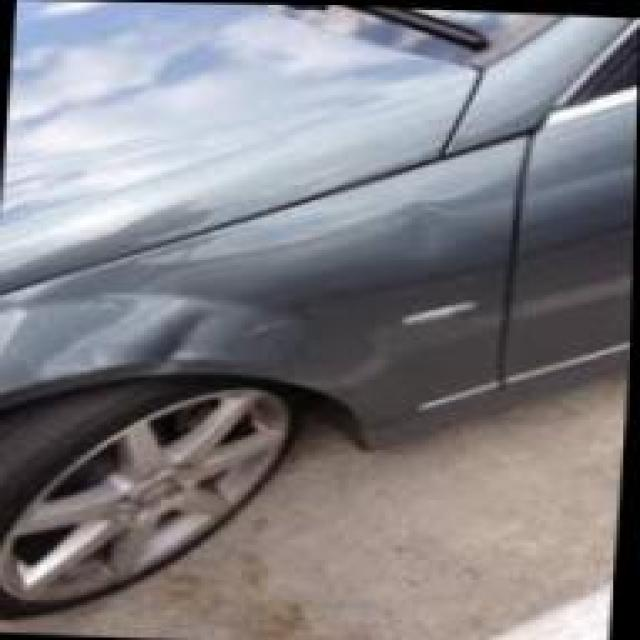Bonnet: (0, 75, 405, 292)
Fender: (0, 176, 397, 448)
